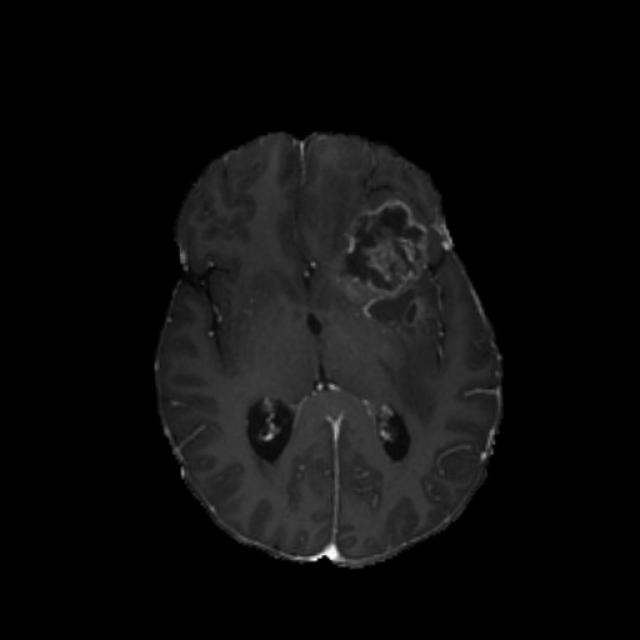negative: (340, 201, 430, 291)
